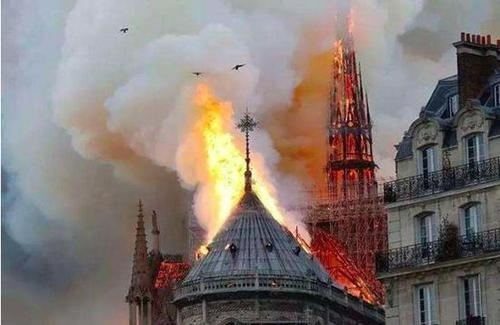fire: (189, 82, 246, 251), (253, 156, 284, 224)
